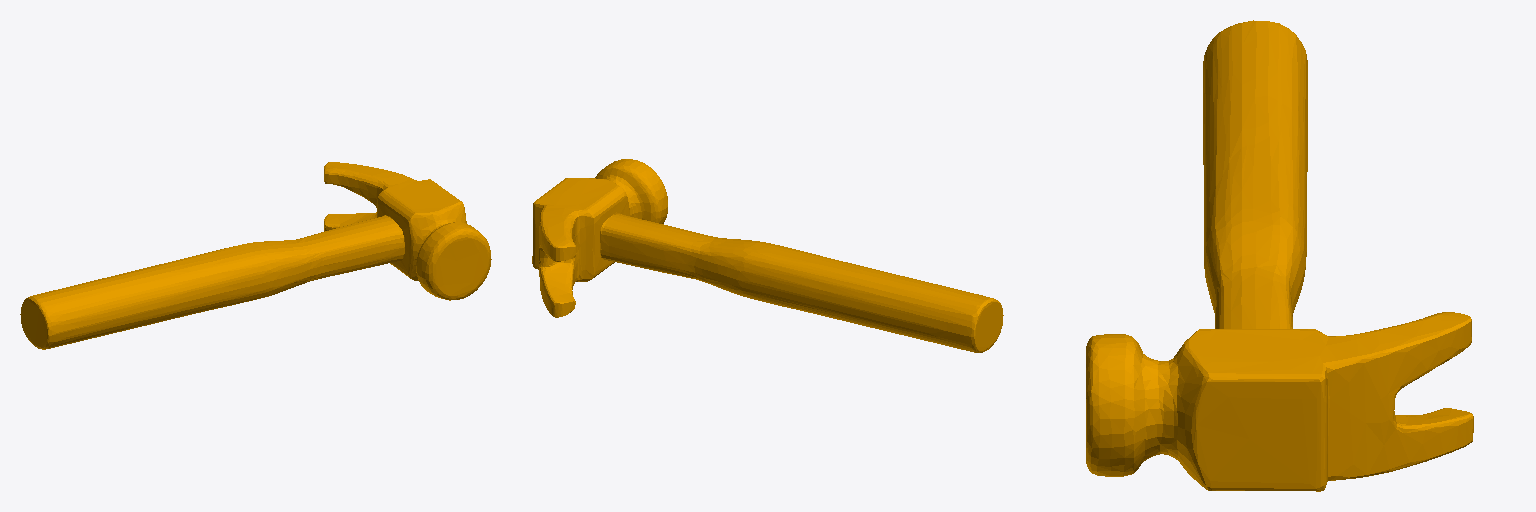
The robot description file, URDF, robot "claw_hammer":
<?xml version="1.0"?>
<robot name="claw_hammer">
  <link name="claw_hammer">
    <visual>
      <origin xyz="0 0 0" rpy="0 0 0"/>
      <geometry>
        <mesh filename="claw_hammer.obj" scale="1 1 1"/>
      </geometry>
    </visual>
    <collision>
      <origin xyz="0 0 0" rpy="0 0 0"/>
      <geometry>
        <mesh filename="claw_hammer.obj" scale="1 1 1"/>
      </geometry>
    </collision>
    <inertial>
      <origin xyz="0 0 0" rpy="0 0 0"/>
      <mass value="0.10000000"/>
      <inertia ixx="0.0000701667" ixy="0" ixz="0" iyy="0.0003254083" iyz="0" izz="0.0003785083"/>
    </inertial>
  </link>
</robot>

--- Facts derived from the render (not from the file) ---
3 views of the same robot in one strip: view 1: azimuth 30°, elevation 25°; view 2: azimuth 150°, elevation 25°; view 3: azimuth 270°, elevation 25° (orthographic).
Robot: claw_hammer — 1 links, 0 joints (none); root link claw_hammer; default pose: every joint at zero.
Links seen in each view (by area): view 1: claw_hammer; view 2: claw_hammer; view 3: claw_hammer.
Link boxes in pixels (x1,y1,x2,y2): claw_hammer: (20, 162, 491, 349); claw_hammer: (532, 159, 1003, 352); claw_hammer: (1086, 20, 1473, 491).
Size in the robot's own frame: 0.195 by 0.086 by 0.032 metres.
Meshes: 1 distinct files referenced, 1 mesh visuals loaded (1 OBJ).
